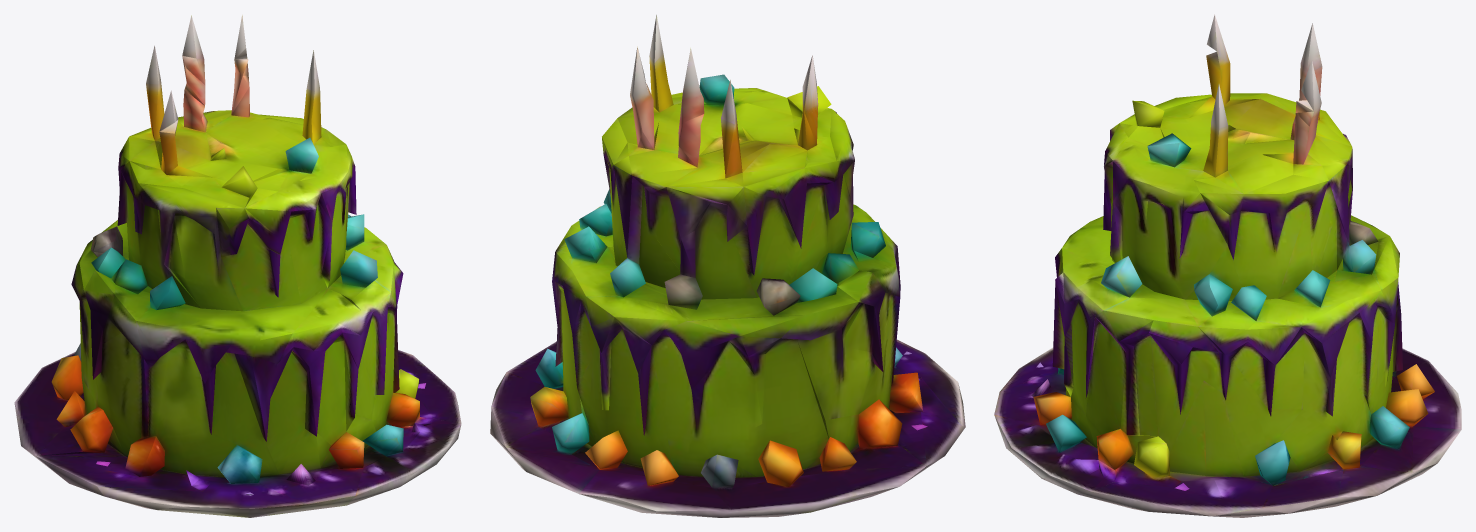
File: slimeCake.glb
3 views of the same model, side by side, from view 1: azimuth 30°, elevation 25°; view 2: azimuth 150°, elevation 25°; view 3: azimuth 270°, elevation 25° (orthographic). The views are drawn at different scales.
Visible parts, largest first — view 1: model; view 2: model; view 3: model.
Boxes of the visible parts, x1,y1,x2,y2 form: model: (14,15,461,517); model: (490,15,965,517); model: (994,14,1461,517).
Size of the model in its own units: 1.91 by 1.79 by 1.91.
Materials: 1 (1 with a texture image).
